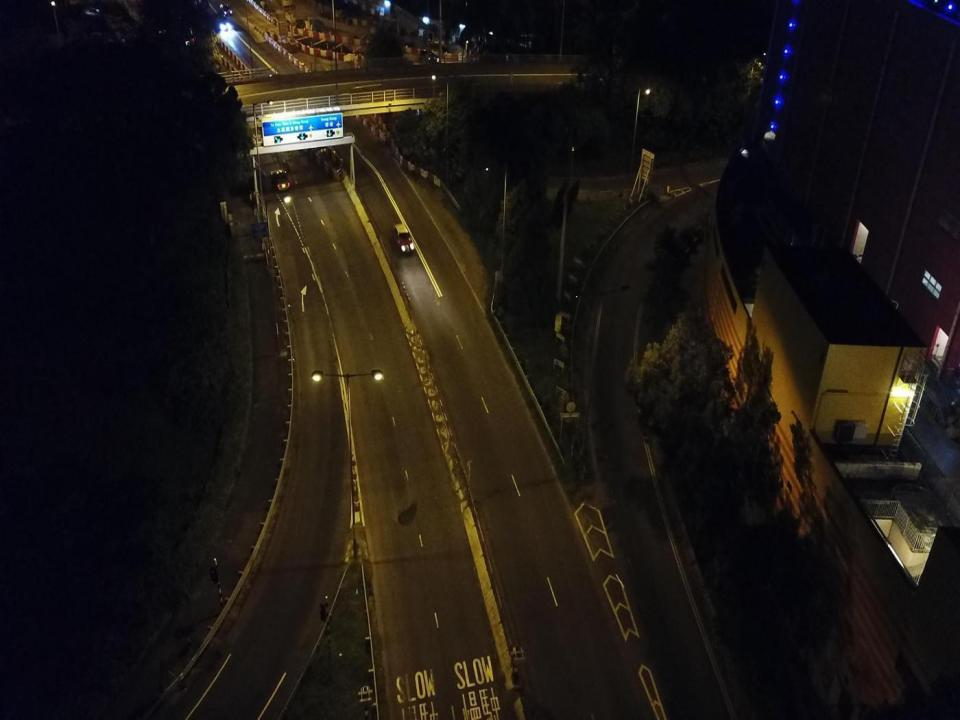bus: (156, 26, 198, 46)
car: (392, 223, 415, 256), (272, 167, 290, 194), (420, 49, 440, 66), (216, 14, 230, 31), (220, 3, 232, 16)
